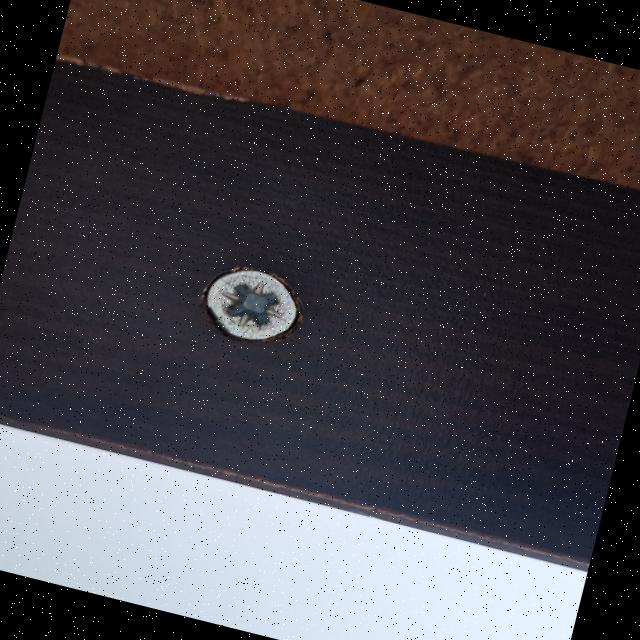Pozidriv: (187, 258, 308, 346)
